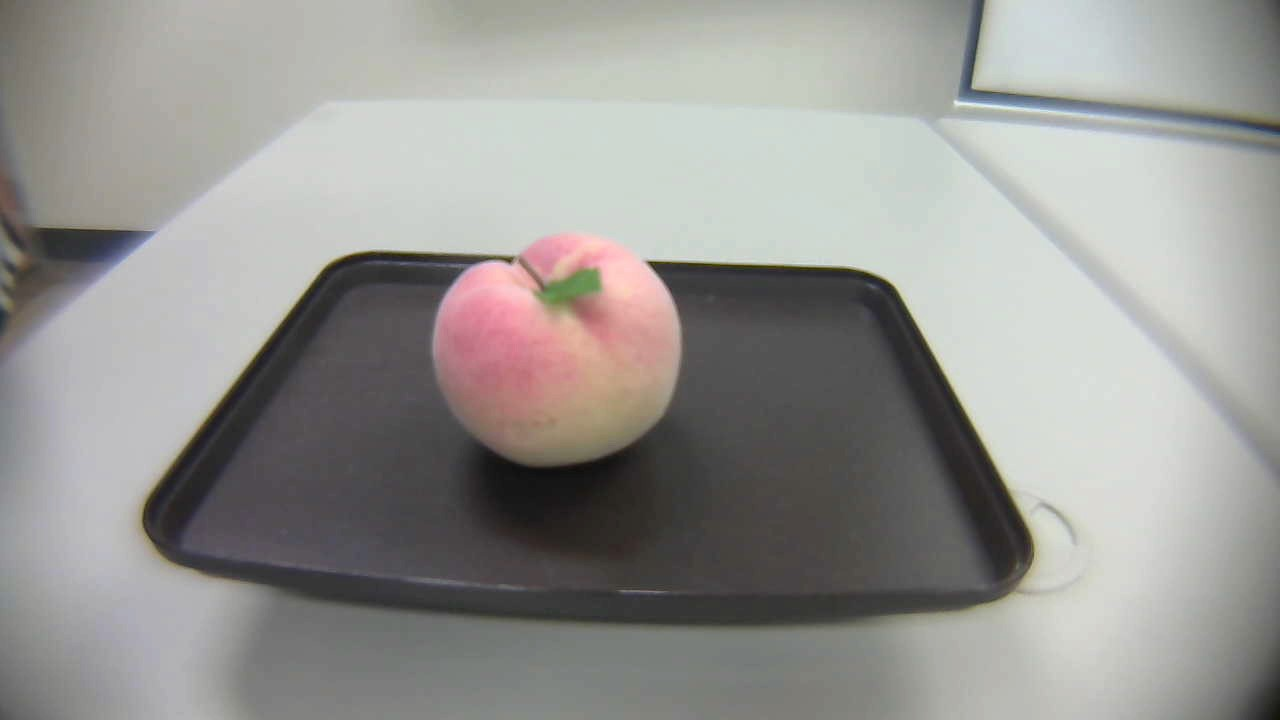peach: (430, 222, 696, 480)
